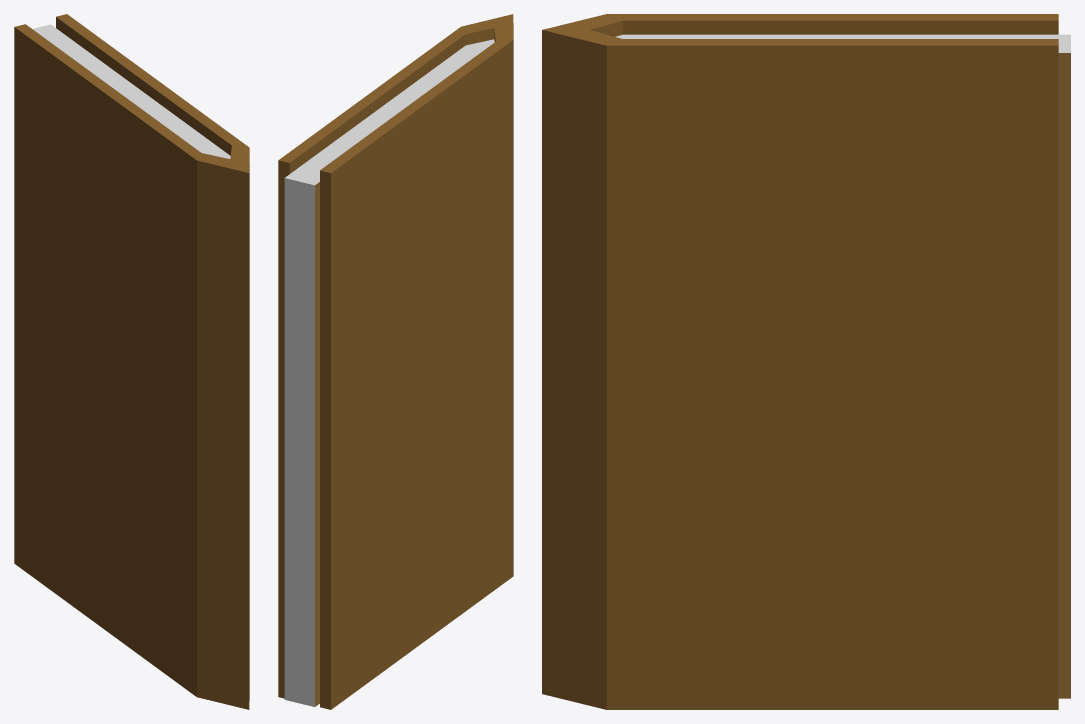
The model's file is Book_FileArchive.obj.
3 renders of one model, left to right at view 1: azimuth 30°, elevation 25°; view 2: azimuth 150°, elevation 25°; view 3: azimuth 270°, elevation 25°, orthographic. The views are drawn at different scales.
Visible parts, largest first — view 1: Book_FileArchive; view 2: Book_FileArchive; view 3: Book_FileArchive.
Boxes of the visible parts, bbox=[...] form: Book_FileArchive: bbox=[14, 14, 249, 709]; Book_FileArchive: bbox=[278, 14, 513, 709]; Book_FileArchive: bbox=[542, 14, 1070, 709].
Size of the model in its own units: 0.0386 by 0.3754 by 0.2709.
